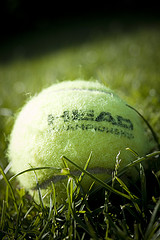tennis ball: (7, 76, 154, 220)
